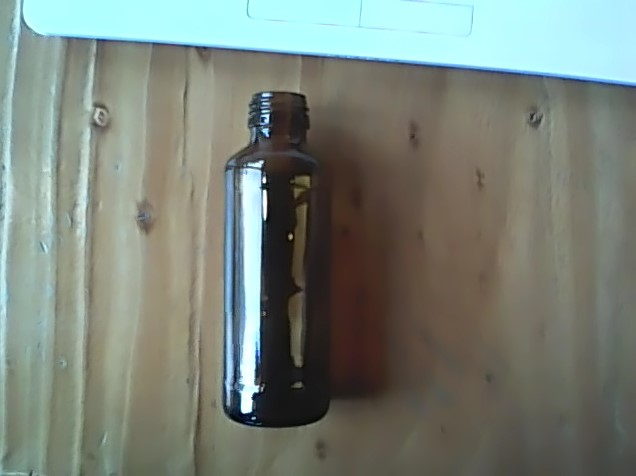Glass: (218, 86, 335, 435)
